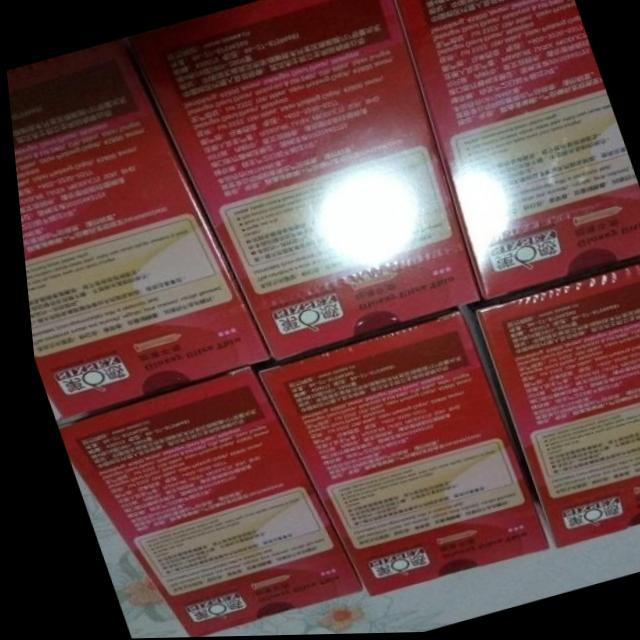box: (124, 0, 474, 361), (5, 41, 266, 420), (244, 310, 540, 600), (51, 368, 351, 638), (392, 0, 640, 306), (468, 261, 640, 549)
